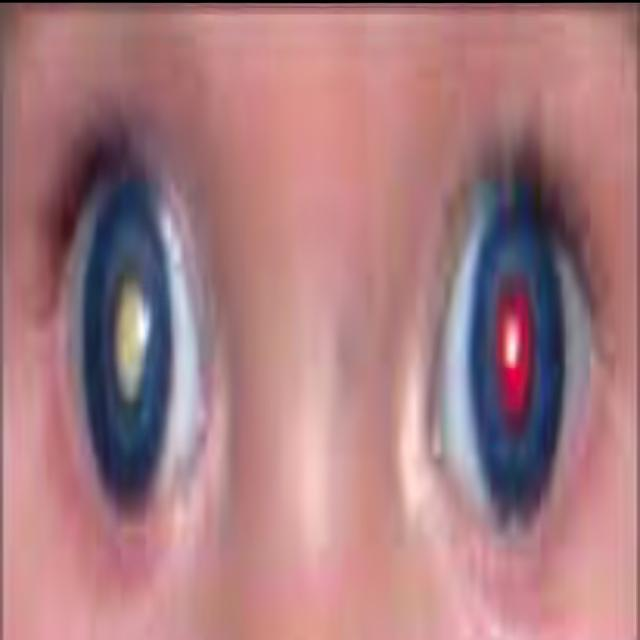reflexo-alterado: (56, 114, 224, 599)
reflexo-normal: (431, 169, 624, 586)
